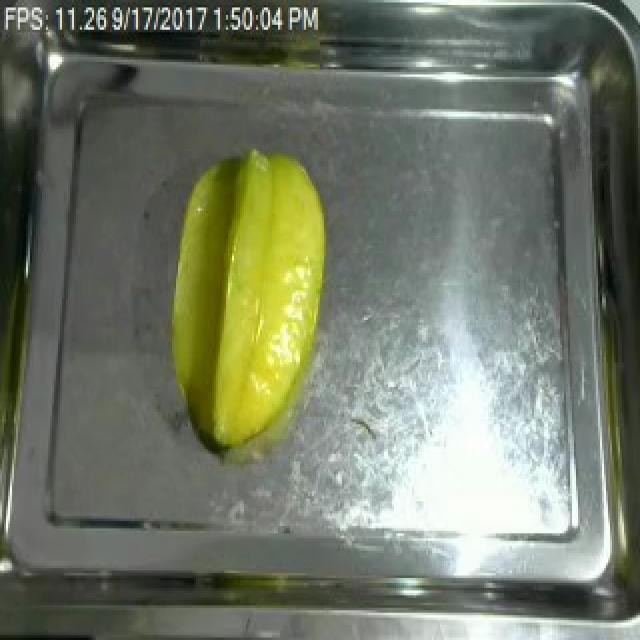fruit: (154, 136, 338, 464)
